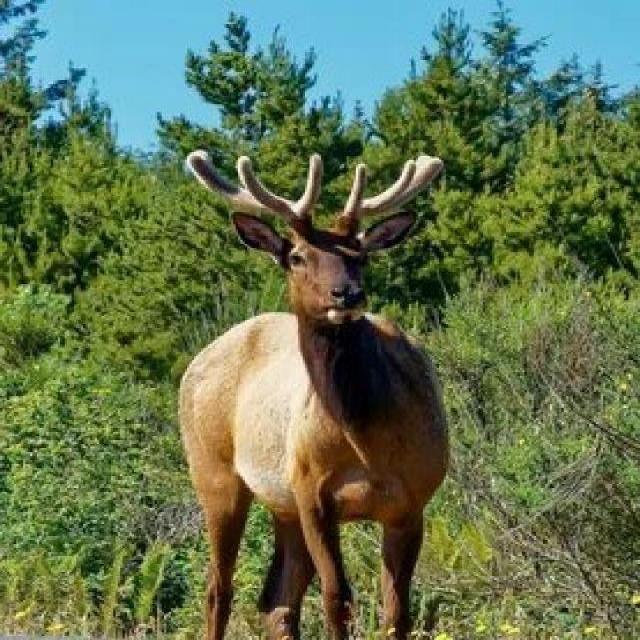deer: (100, 133, 526, 563)
